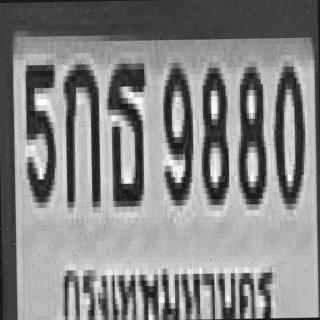A01: (63, 58, 98, 202)
A24: (104, 57, 146, 201)
N00: (270, 60, 302, 204)
N05: (23, 59, 55, 202)
N08: (235, 58, 265, 196), (198, 62, 227, 199)
N09: (160, 57, 192, 200)
P04: (57, 248, 278, 320)
